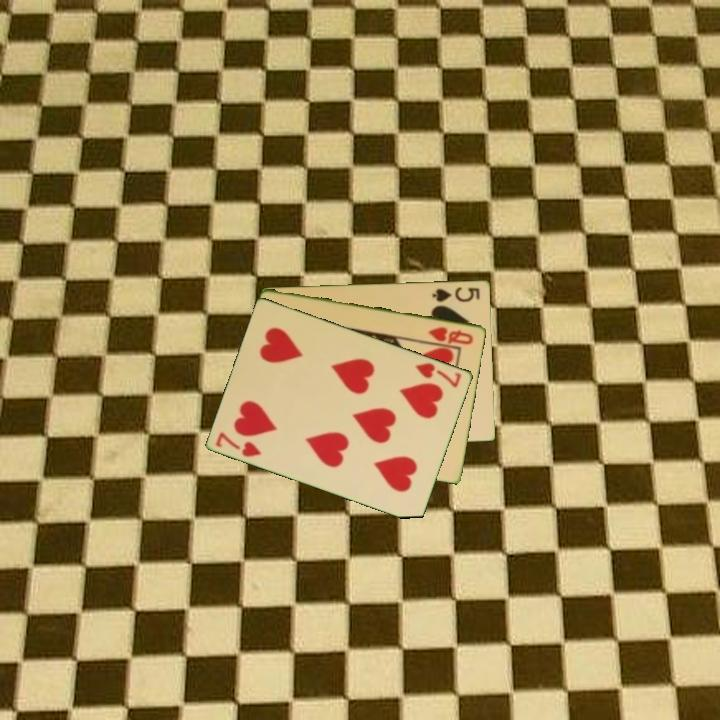5s: (429, 283, 483, 305)
7h: (212, 428, 265, 460), (411, 359, 465, 390)
Qh: (425, 323, 476, 347)
